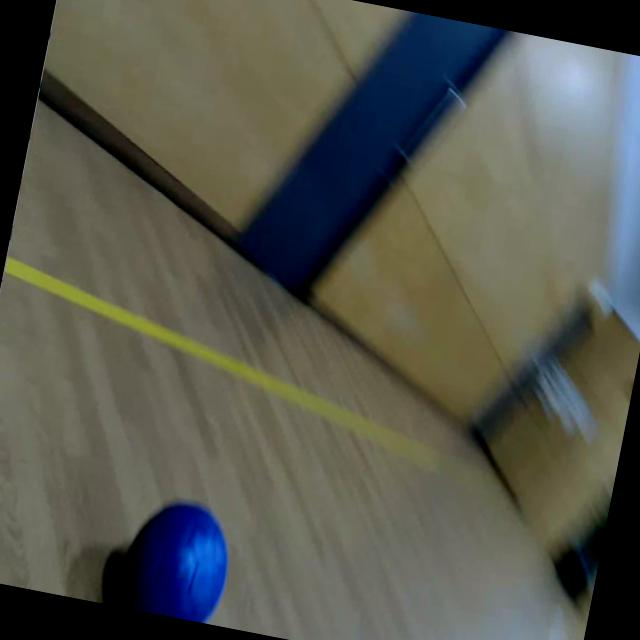blue_ball: (108, 488, 241, 626)
